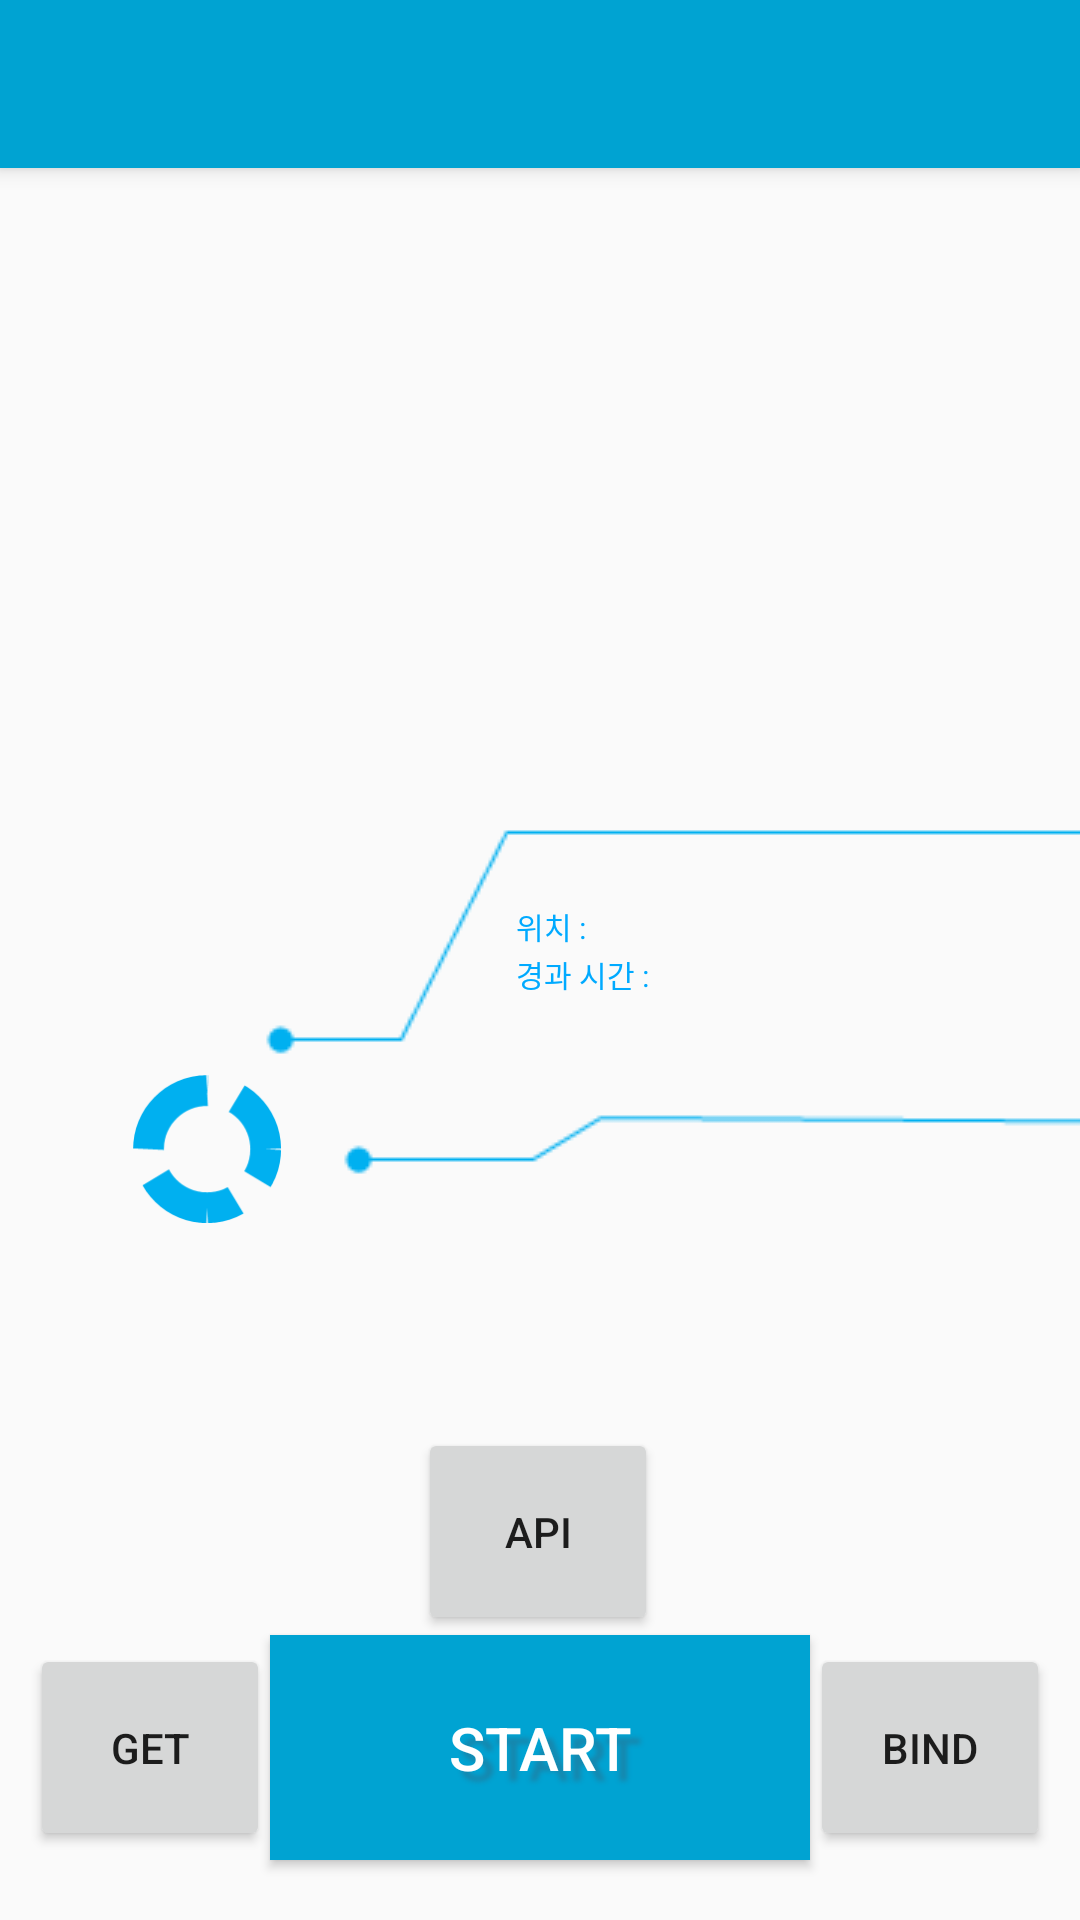

Screen size 1080px x 1920px. Icon name, then its center in pixels as (x=x, y=y):
cyancircle: (x=207, y=1149)
